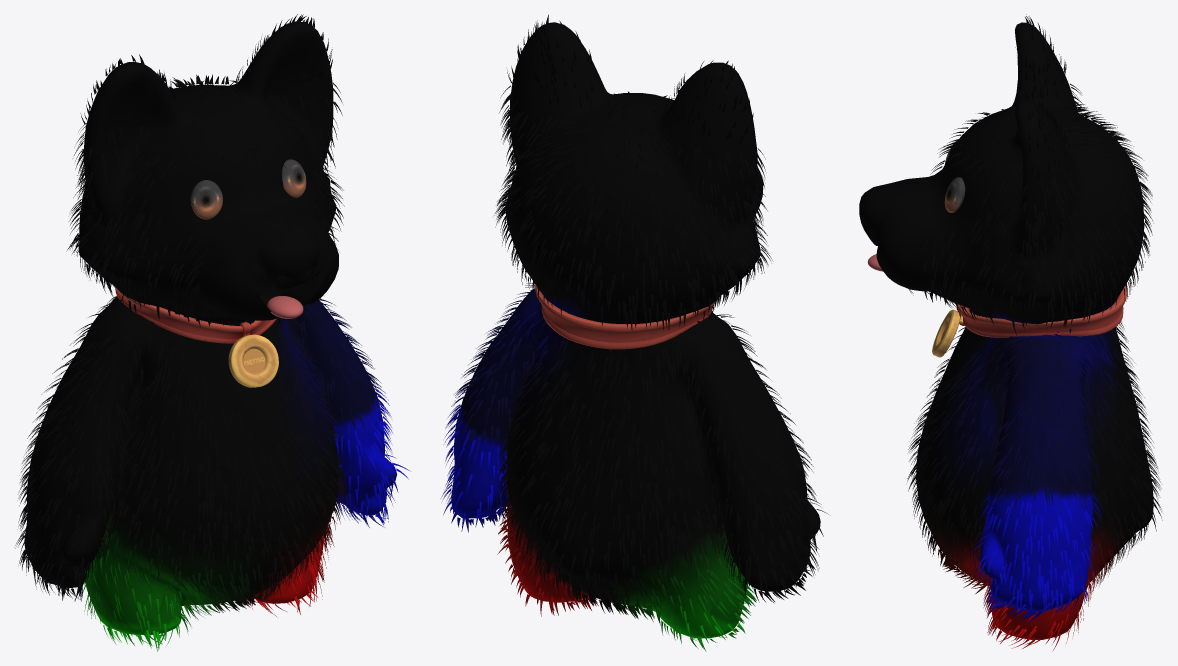
Rendered from nemo_shell_v13.glb.
The picture shows the model from 3 angles, left to right: view 1: azimuth 30°, elevation 25°; view 2: azimuth 150°, elevation 25°; view 3: azimuth 270°, elevation 25°; orthographic projection. The views are drawn at different scales.
Visible parts, largest first — view 1: BoundedShellGroom, LayeredCurvedGroom, Body, Collar, Nemo_Normal, Small tongue inside smile; view 2: BoundedShellGroom, LayeredCurvedGroom, Body, Collar; view 3: BoundedShellGroom, LayeredCurvedGroom, Body, Collar, Nemo_Normal.
Boxes of the visible parts, box(x1,y1,x2,y2) form: BoundedShellGroom: box(24, 21, 397, 635); LayeredCurvedGroom: box(15, 14, 410, 651); Body: box(26, 49, 383, 621); Collar: box(113, 285, 278, 387); Nemo_Normal: box(190, 159, 306, 219); Small tongue inside smile: box(267, 296, 303, 318); BoundedShellGroom: box(451, 22, 820, 638); LayeredCurvedGroom: box(441, 14, 828, 651); Body: box(453, 76, 815, 620); Collar: box(534, 283, 715, 349); BoundedShellGroom: box(859, 22, 1153, 639); LayeredCurvedGroom: box(907, 14, 1162, 651); Body: box(862, 76, 1127, 602); Collar: box(932, 285, 1126, 357); Nemo_Normal: box(944, 141, 965, 212).
Bounding box in the file's own units: 1.77 × 2.77 × 1.38.
7 materials, 5 textured.
